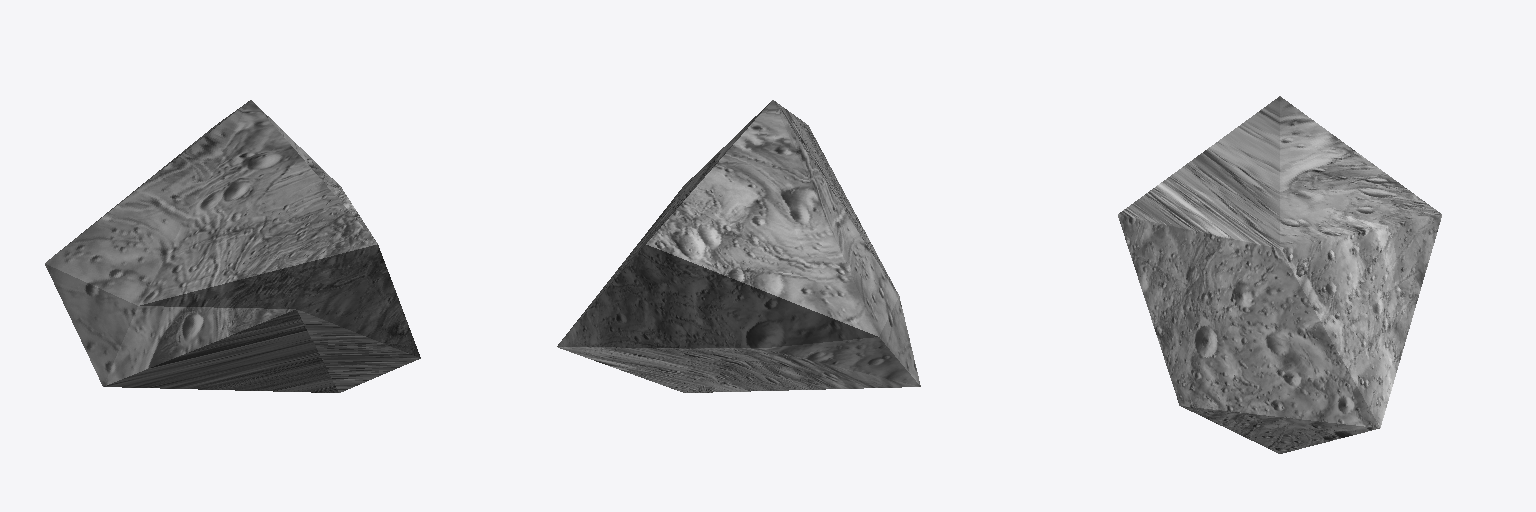
3 renders of one model, left to right at view 1: azimuth 30°, elevation 25°; view 2: azimuth 150°, elevation 25°; view 3: azimuth 270°, elevation 25°, orthographic.
Visible parts, largest first — view 1: GeoSphere001.001; view 2: GeoSphere001.001; view 3: GeoSphere001.001.
Boxes of the visible parts, box(x1,y1,x2,y2) form: GeoSphere001.001: box(45, 100, 420, 392); GeoSphere001.001: box(557, 100, 920, 392); GeoSphere001.001: box(1118, 96, 1441, 453).
Bounding box in the file's own units: 9.74 × 9.1 × 8.51.
Materials: 1 (1 with a texture image).